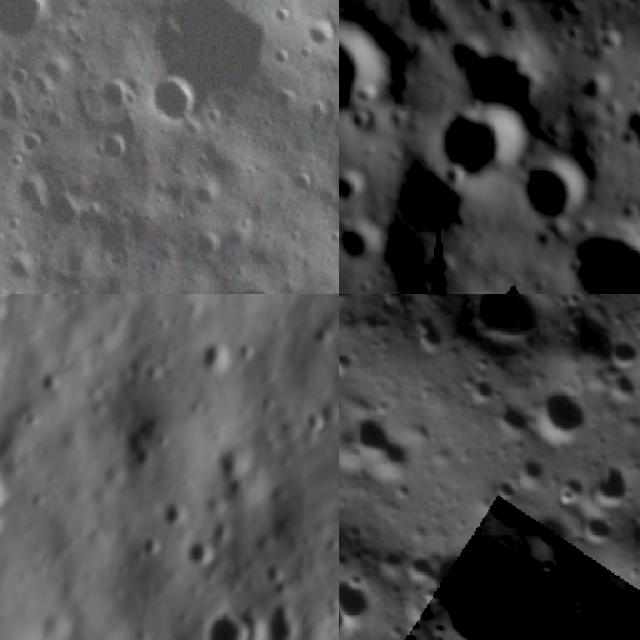crater: (382, 489, 618, 640), (128, 0, 309, 122), (430, 100, 530, 186), (448, 294, 566, 365), (386, 169, 486, 252), (522, 362, 610, 456), (516, 154, 607, 235), (339, 7, 394, 136), (555, 216, 640, 294), (582, 451, 640, 525), (144, 68, 208, 134), (0, 0, 67, 54), (35, 182, 95, 242), (85, 64, 141, 120), (339, 215, 384, 278), (253, 592, 310, 640), (339, 568, 380, 631), (89, 126, 140, 175), (8, 163, 54, 215), (194, 603, 258, 640), (208, 264, 286, 294), (181, 527, 226, 575), (296, 8, 339, 56), (0, 242, 44, 287), (183, 170, 226, 212), (577, 508, 619, 551), (154, 491, 194, 534), (299, 400, 338, 444), (199, 334, 238, 376), (189, 220, 224, 266), (616, 96, 640, 158), (339, 170, 369, 216), (9, 130, 46, 164), (0, 86, 29, 129), (30, 70, 60, 103), (138, 526, 166, 560), (496, 0, 550, 16), (0, 460, 13, 512)
